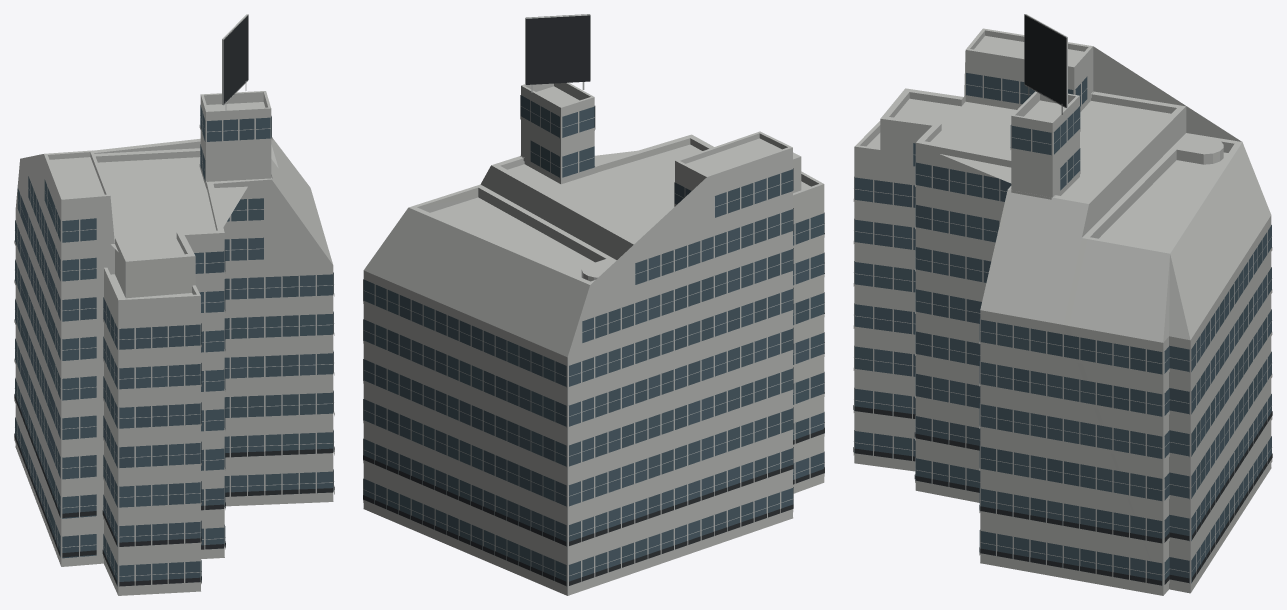
File: baseline.glb
3 views of the same model, side by side, from view 1: azimuth 30°, elevation 25°; view 2: azimuth 150°, elevation 25°; view 3: azimuth 270°, elevation 25° (orthographic). The views are drawn at different scales.
Visible parts, largest first — view 1: takagi_wall, takagi_glass2, takagi_roof, takagi_glass0, takagi_glass1, takagi_spandrel, takagi_frame, takagi_sign_housing; view 2: takagi_wall, takagi_roof, takagi_glass2, takagi_glass1, takagi_glass0, takagi_spandrel, takagi_frame, takagi_sign_housing; view 3: takagi_wall, takagi_roof, takagi_glass2, takagi_glass0, takagi_glass1, takagi_spandrel, takagi_frame, takagi_sign_housing.
Part boxes in pixels (x1=…): takagi_wall: x1=15, y1=92, x2=333, y2=595; takagi_glass2: x1=15, y1=105, x2=333, y2=586; takagi_roof: x1=44, y1=91, x2=332, y2=300; takagi_glass0: x1=15, y1=118, x2=333, y2=586; takagi_glass1: x1=15, y1=119, x2=332, y2=585; takagi_spandrel: x1=14, y1=125, x2=334, y2=589; takagi_frame: x1=14, y1=14, x2=334, y2=586; takagi_sign_housing: x1=14, y1=15, x2=334, y2=586; takagi_wall: x1=363, y1=83, x2=824, y2=595; takagi_roof: x1=364, y1=82, x2=823, y2=357; takagi_glass2: x1=363, y1=101, x2=824, y2=586; takagi_glass1: x1=363, y1=95, x2=824, y2=580; takagi_glass0: x1=363, y1=146, x2=824, y2=581; takagi_spandrel: x1=363, y1=116, x2=824, y2=589; takagi_frame: x1=363, y1=14, x2=824, y2=586; takagi_sign_housing: x1=363, y1=15, x2=824, y2=585; takagi_wall: x1=854, y1=30, x2=1271, y2=595; takagi_roof: x1=855, y1=28, x2=1271, y2=342; takagi_glass2: x1=854, y1=73, x2=1271, y2=581; takagi_glass0: x1=854, y1=75, x2=1271, y2=585; takagi_glass1: x1=854, y1=76, x2=1271, y2=583; takagi_spandrel: x1=853, y1=91, x2=1272, y2=589; takagi_frame: x1=853, y1=14, x2=1272, y2=585; takagi_sign_housing: x1=853, y1=15, x2=1272, y2=585.
Bounding box in the file's own units: 40.09 × 53.67 × 40.55.
